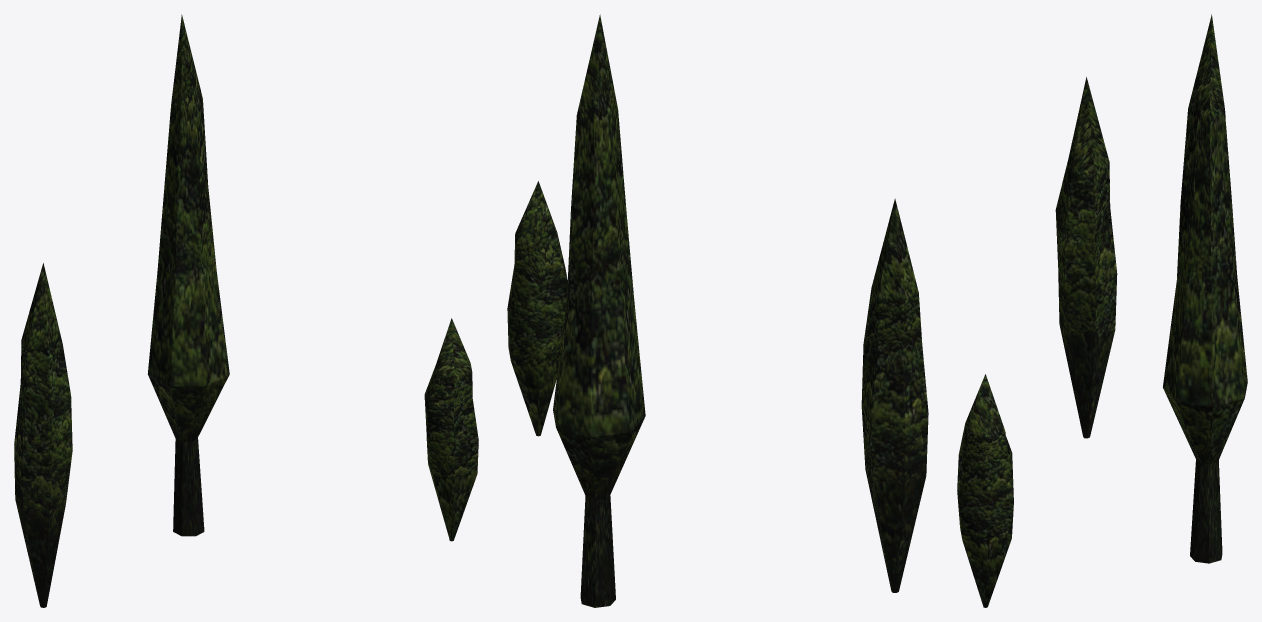
Rendered from trees_cypress_02.dae.
3 renders of one model, left to right at view 1: azimuth 30°, elevation 25°; view 2: azimuth 150°, elevation 25°; view 3: azimuth 270°, elevation 25°, orthographic. The views are drawn at different scales.
Visible parts, largest first — view 1: Cylinder04; view 2: Cylinder04; view 3: Cylinder04.
Part boxes in pixels (x1,y1,x2,y2): Cylinder04: (14,14,478,607); Cylinder04: (507,14,928,607); Cylinder04: (957,14,1247,607).
Size of the model in its own units: 5.41 by 6.49 by 3.16.
